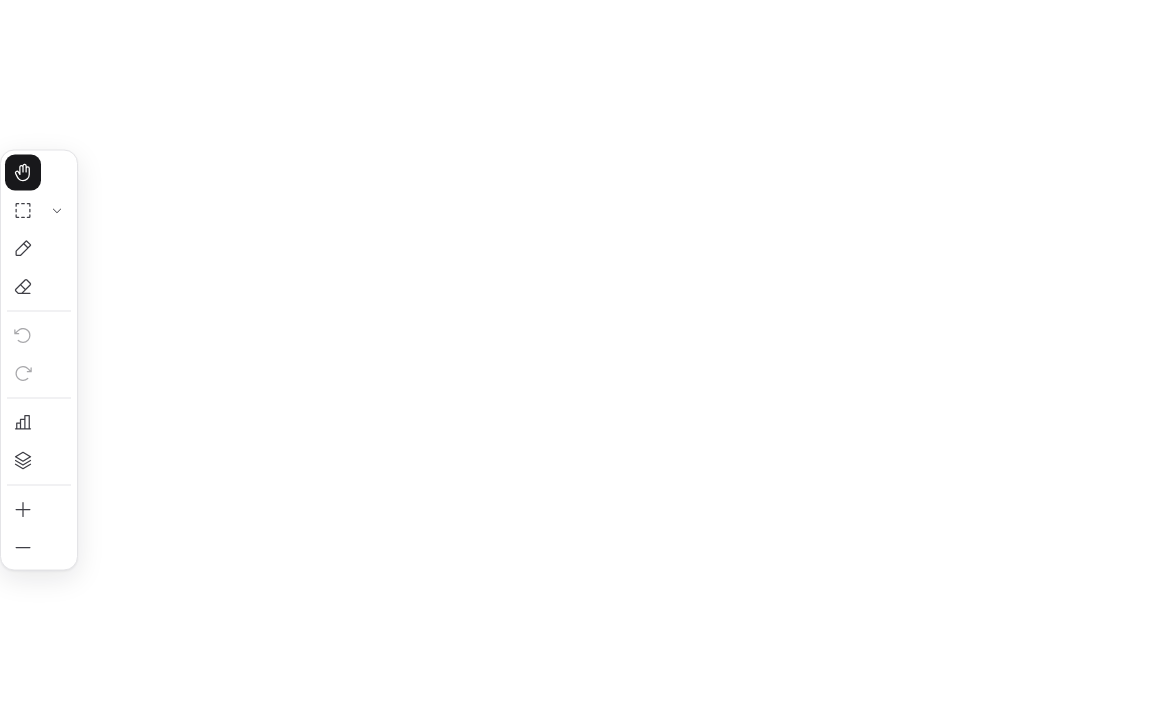
it: MapTools › shows the month climate as an item that is off, with its caption, while its data is not there
Later steps or results of the test are not shown.
Click the button named "Layers": [23, 460] box [5,442,41,478]
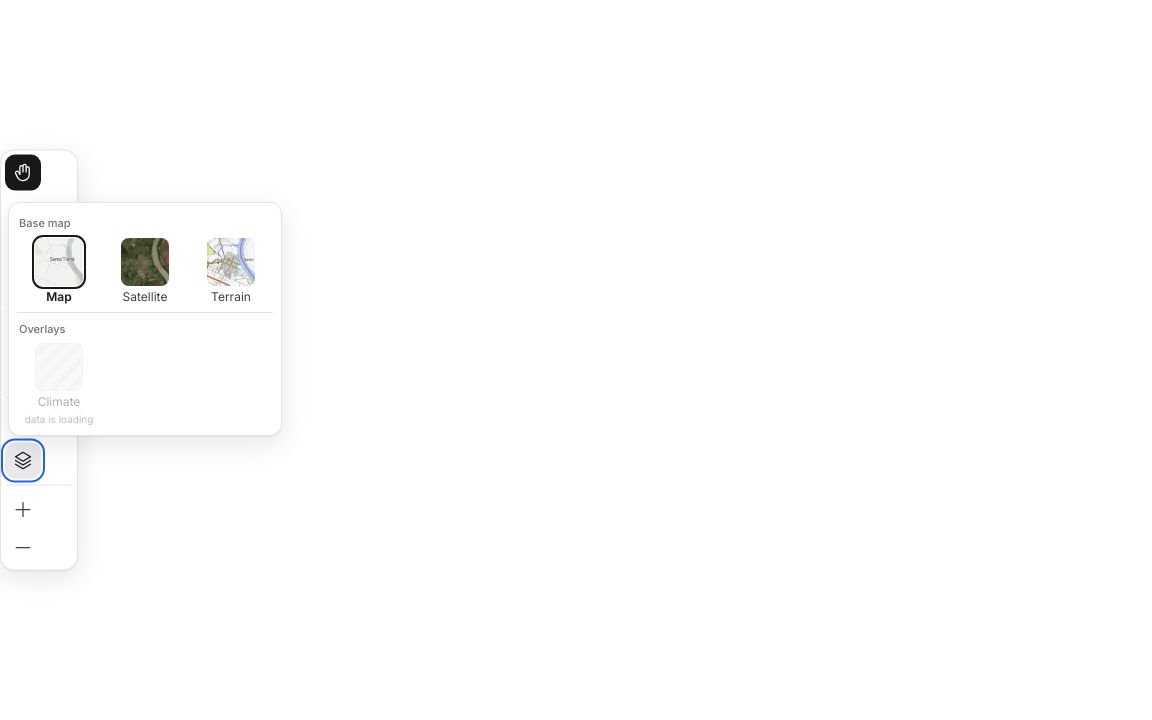
Now the button "Climate data is loading" is disabled, box [17,341,101,427]
Now the button "Climate data is loading" is shown, box [17,341,101,427]
